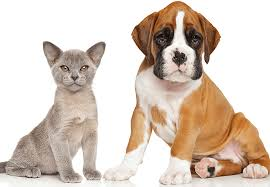cat: (1, 41, 101, 185)
dog: (110, 2, 269, 182)
